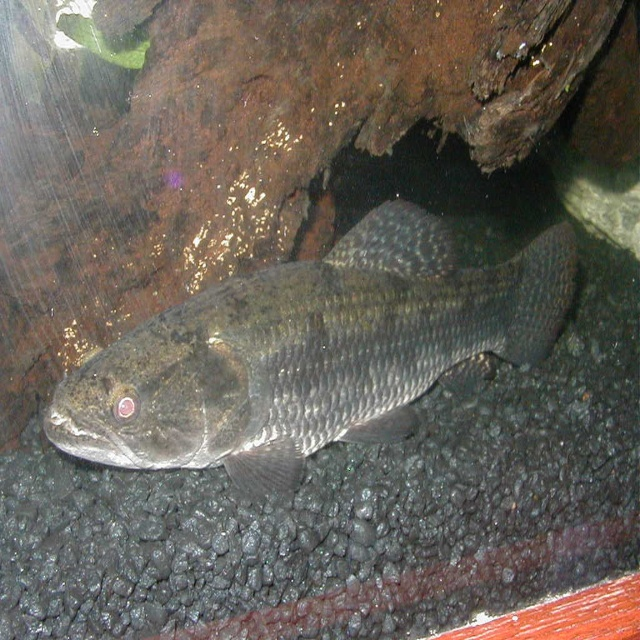Fish: (42, 197, 581, 500)
